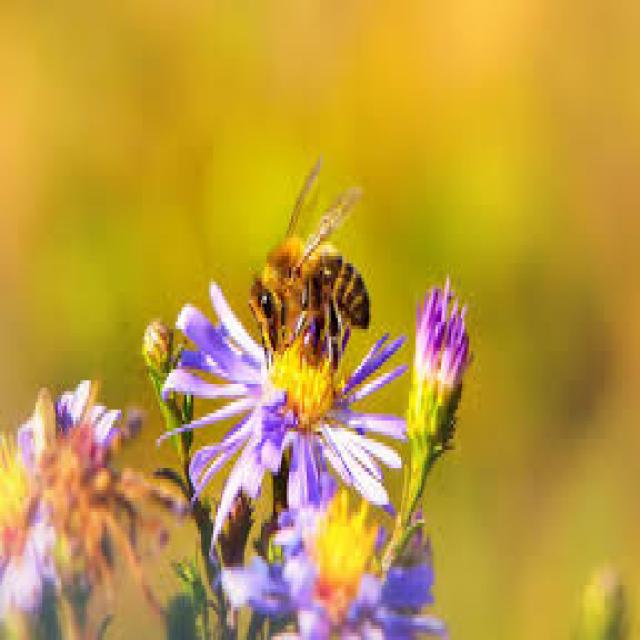Bees: (248, 157, 372, 371)
